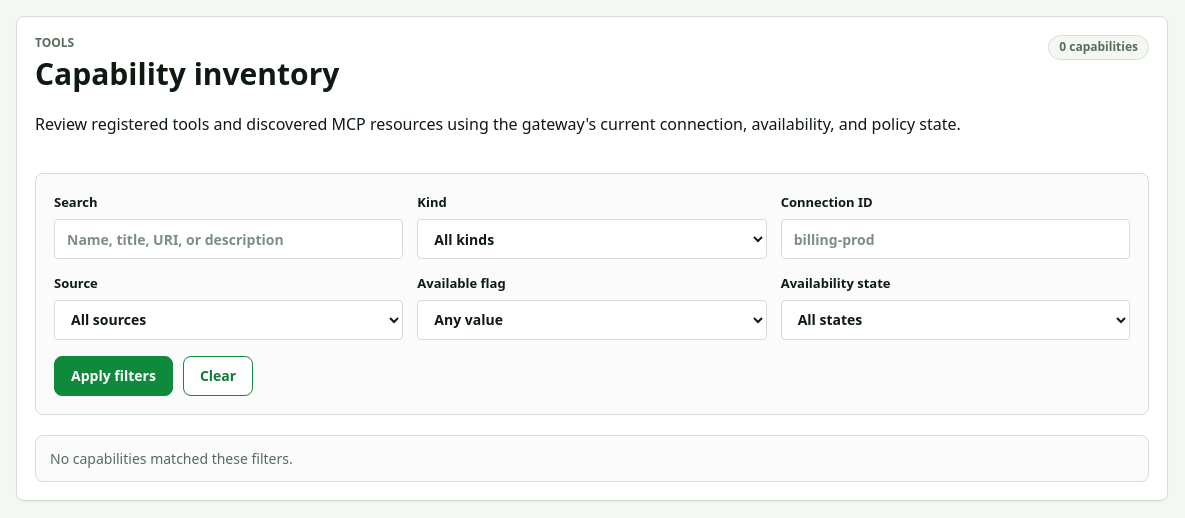
Test: CapabilityInventoryView › clears all filter controls and reloads the unfiltered collection
Check: the text "No capabilities matched these filters." is shown, box [35, 435, 1149, 482]
Type "invoice" into the search field labelled "Search" at (229, 239), box [54, 219, 403, 259]
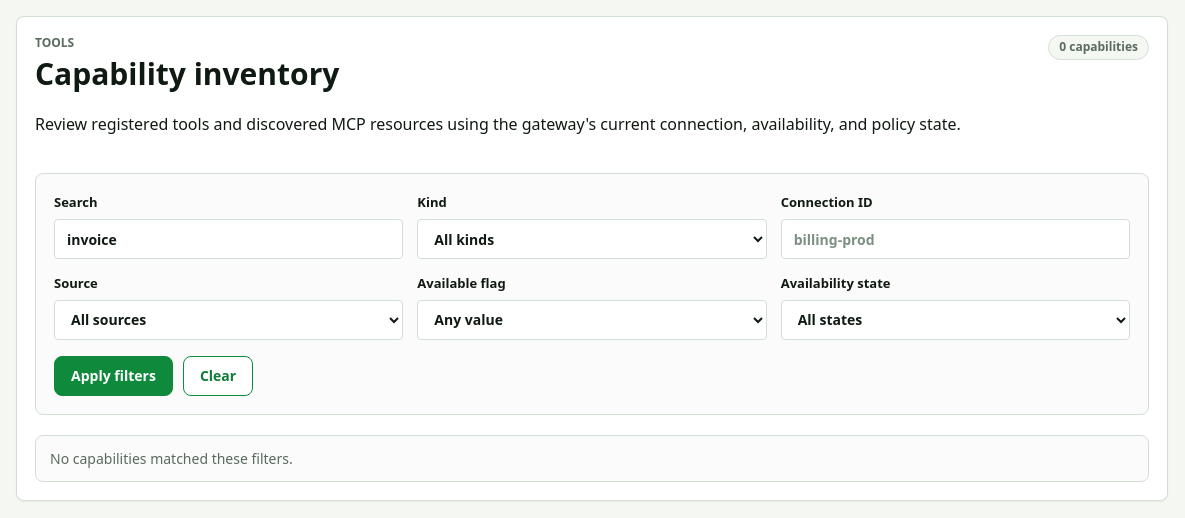
Select "Resources" in the dropdown labelled "Kind" at (592, 239), box [417, 219, 767, 259]
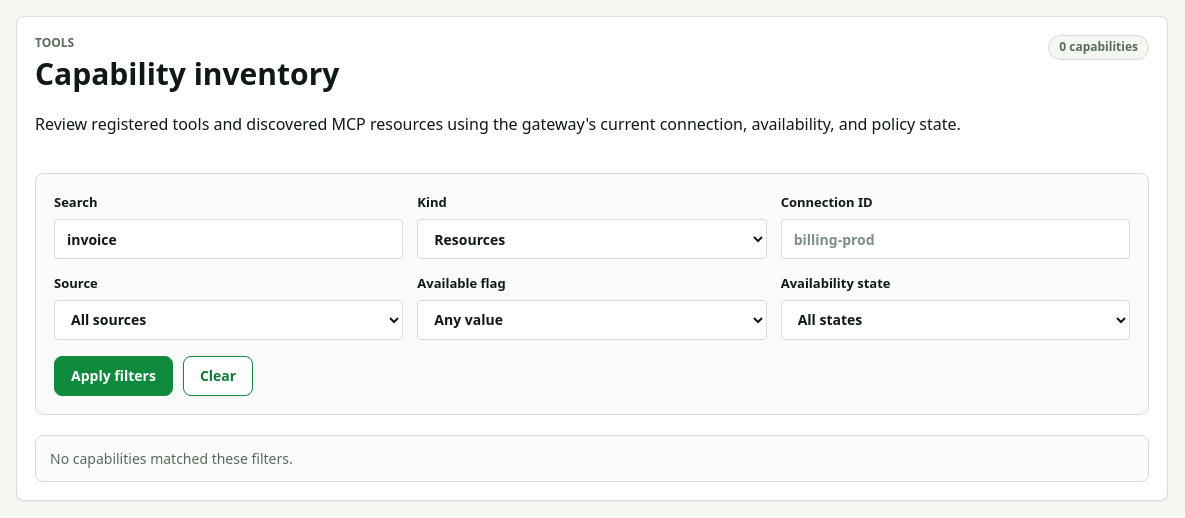
Click the button "Clear" at (218, 376), box [183, 356, 253, 396]
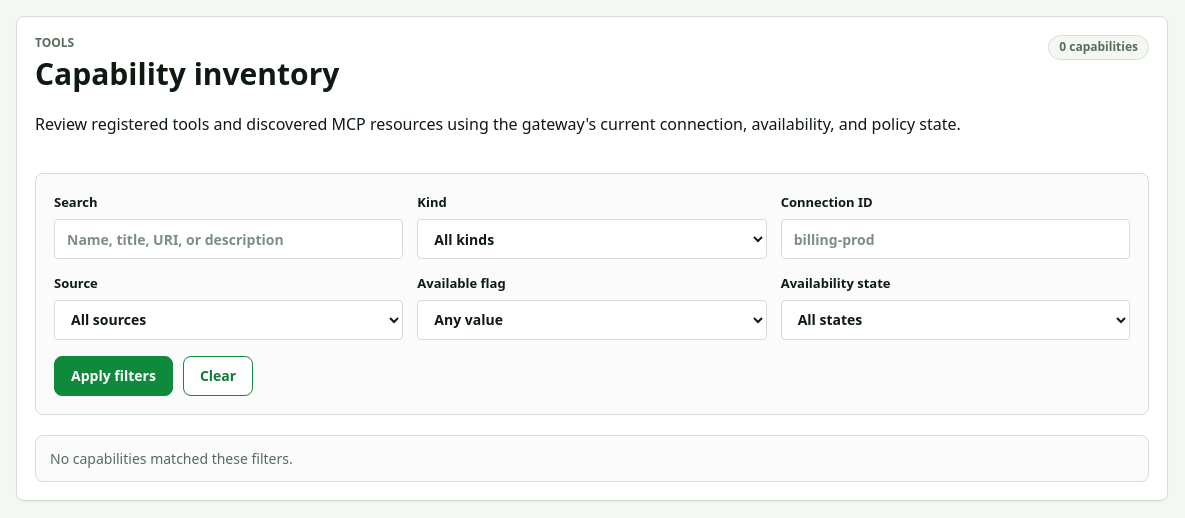
Check: the search field labelled "Search" is empty, box [54, 219, 403, 259]
